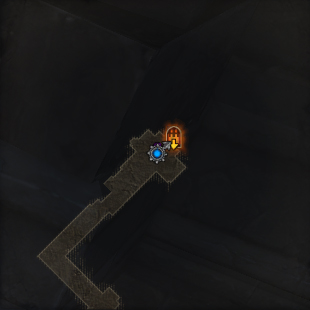Exit: (163, 124, 185, 153)
